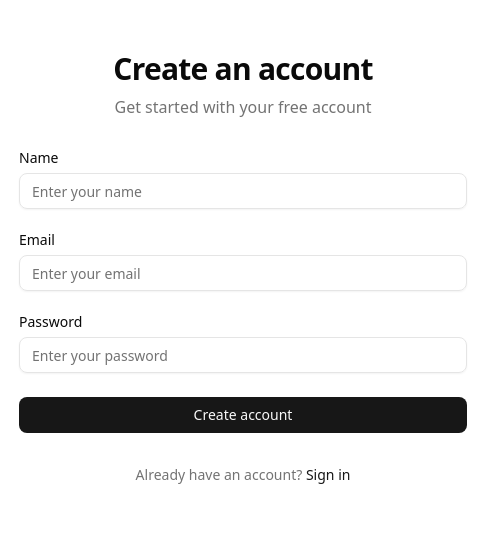
Test case: Register › shows validation errors for empty fields
Click the button "Create account". click: coordinates (243, 415)
box: [19, 397, 467, 433]
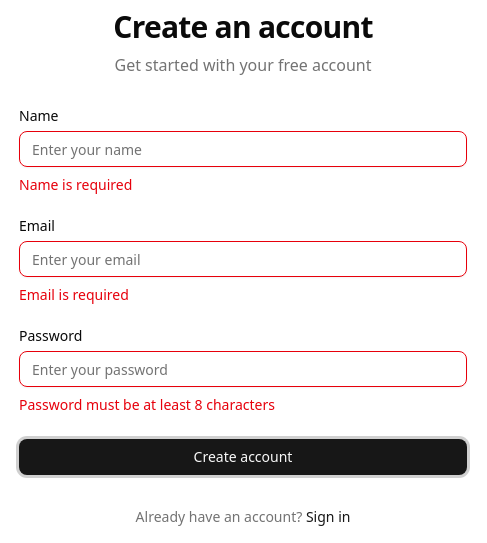
Check: the text "Name is required" is shown, box [19, 175, 132, 194]
Check: the text "Email is required" is shown, box [19, 285, 129, 304]
Check: the text "Password must be at least 8 characters" is shown, box [19, 395, 275, 414]
